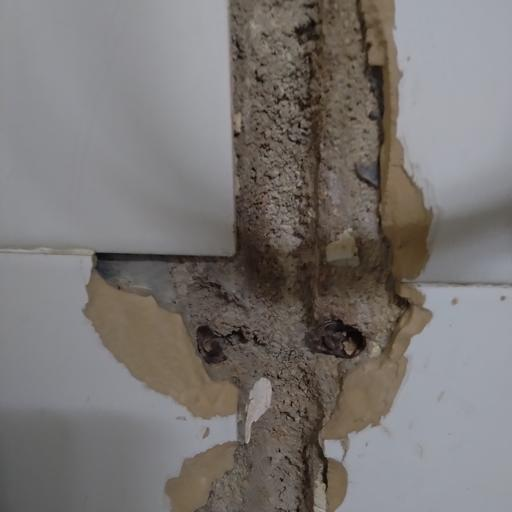spalling: (89, 0, 441, 512)
